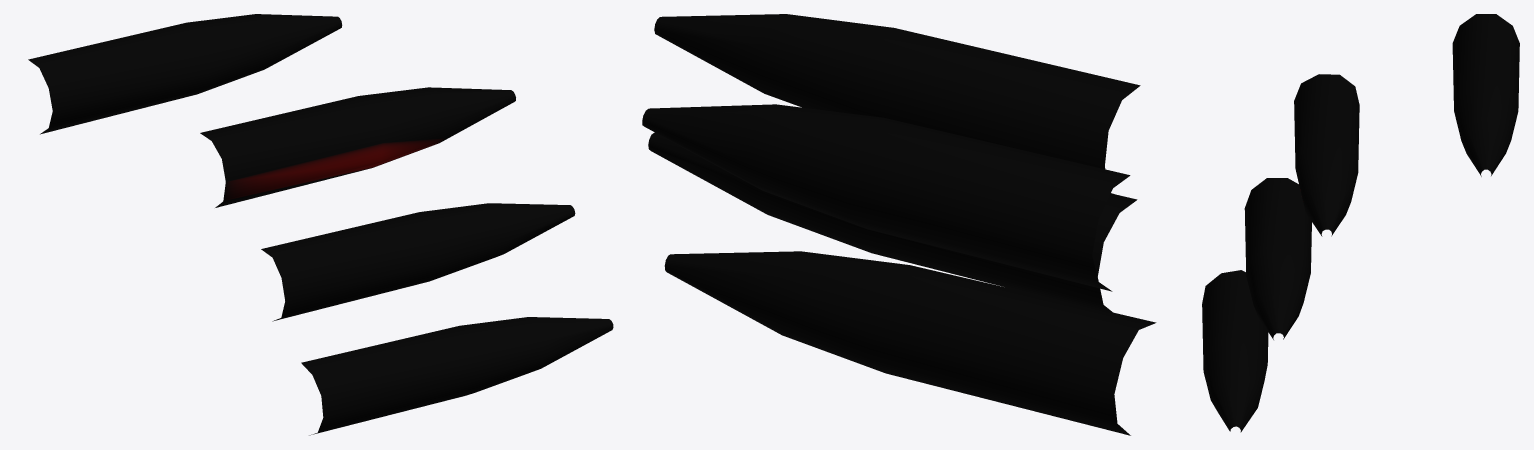
Rendered from ASE_FX_Havoc_Jets_L.gltf.
The picture shows the model from 3 angles, left to right: view 1: azimuth 30°, elevation 25°; view 2: azimuth 150°, elevation 25°; view 3: azimuth 270°, elevation 25°; orthographic projection. The views are drawn at different scales.
Visible parts, largest first — view 1: ASE_FX_Havoc_Jets_L; view 2: ASE_FX_Havoc_Jets_L; view 3: ASE_FX_Havoc_Jets_L.
Boxes of the visible parts, x1,y1,x2,y2 form: ASE_FX_Havoc_Jets_L: (28, 14, 613, 435); ASE_FX_Havoc_Jets_L: (642, 14, 1156, 435); ASE_FX_Havoc_Jets_L: (1202, 14, 1519, 432).
Size of the model in its own units: 1.45 by 0.9434 by 1.04.
